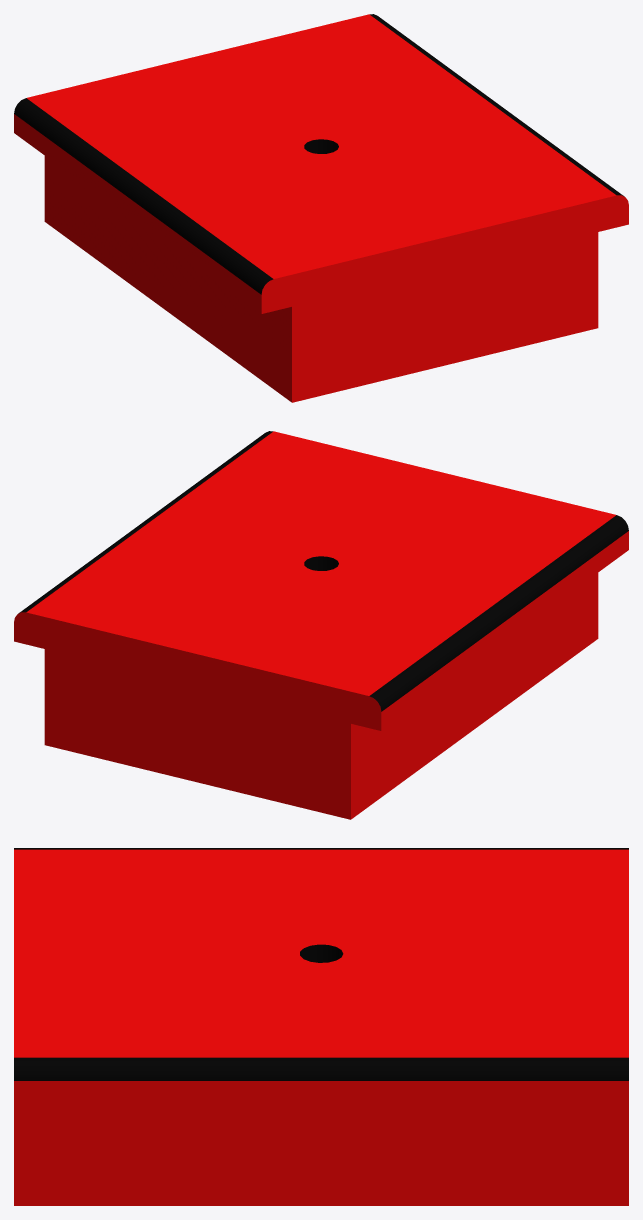
File: Moving Part.obj
3 renders of one model, top to bottom at view 1: azimuth 30°, elevation 25°; view 2: azimuth 150°, elevation 25°; view 3: azimuth 270°, elevation 25°, orthographic. The views are drawn at different scales.
Parts seen in each view (by area): view 1: mesh 1 Moving Part, mesh 2 Fillet1 face; view 2: mesh 1 Moving Part, mesh 2 Fillet1 face; view 3: mesh 1 Moving Part, mesh 2 Fillet1 face.
Part boxes in pixels (bbox=[...]): mesh 1 Moving Part: bbox=[14, 14, 628, 402]; mesh 2 Fillet1 face: bbox=[14, 14, 624, 294]; mesh 1 Moving Part: bbox=[14, 431, 628, 819]; mesh 2 Fillet1 face: bbox=[18, 431, 628, 711]; mesh 1 Moving Part: bbox=[14, 849, 628, 1205]; mesh 2 Fillet1 face: bbox=[14, 848, 628, 1080].
Size of the model in its own units: 0.06 by 0.02 by 0.07.
